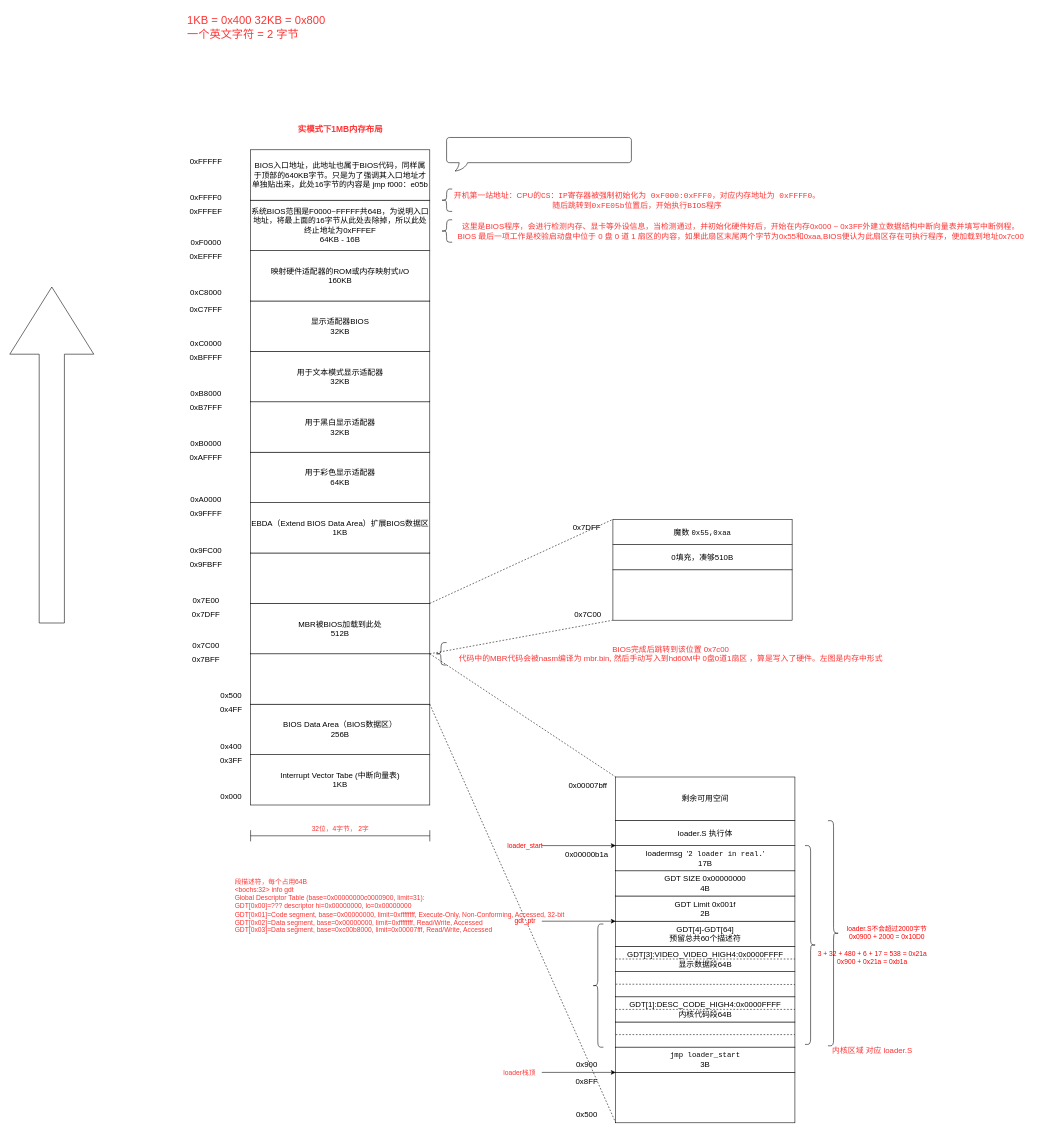
Image size: 1039x1133. Some labels were removed from this diagram. The shapes that lost their labels are listed below. From the top down, each one's box as (x1, y1, x2, y2) in pixels, then its label:
(446, 137, 631, 171): jmp f000：e05b 对应地址为 f000 < 4 + e05b = 0xfe05b
(9, 286, 94, 623): 程序执行方向
(250, 552, 430, 603): 可用区域 622080B约608KB
(612, 569, 792, 620): mbr.S执行体
(250, 653, 430, 704): 可用区域 30648B 约30KB
(615, 971, 795, 997): GDT[2]:DESC_DATA_HIGH4:0x0000FFFF 数据段64B
(615, 1021, 795, 1047): GDT[0]：0x00000000:0x00000000 8字节空描述符64B
(615, 1072, 795, 1123): loader_stack 1KB
